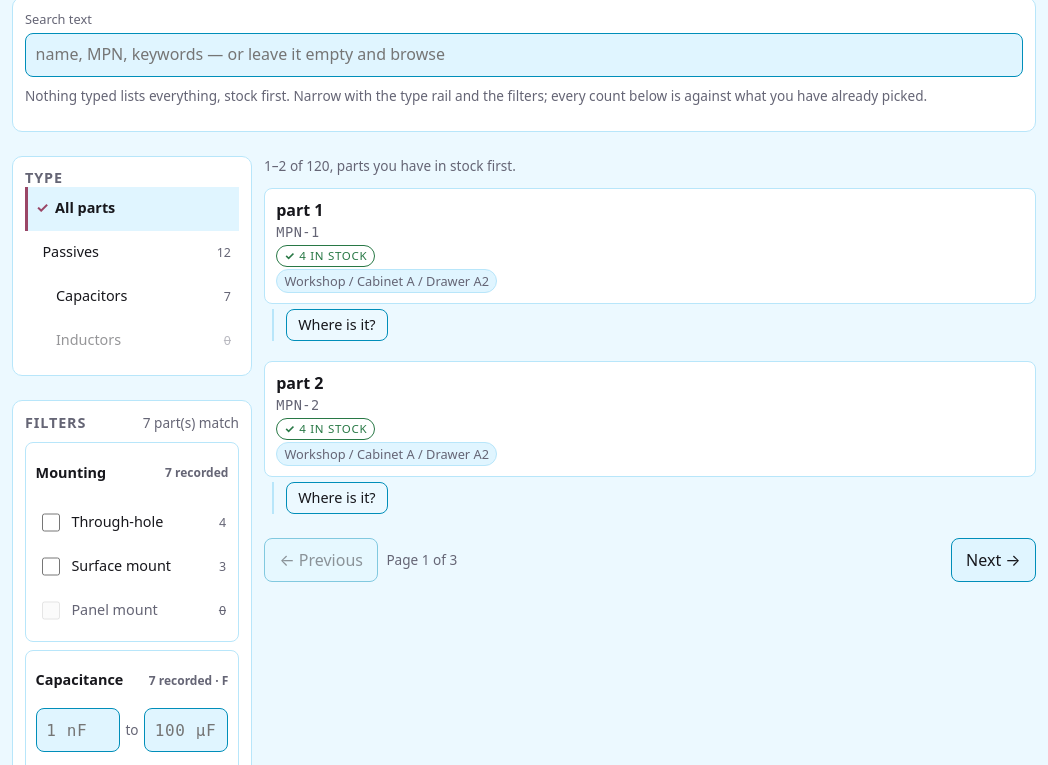
Test case: the URL › gains the filter, so the search is a link
Click the checkbox labelled "Through-hole 4": (51,523) left=42, top=513, right=60, bottom=532
(page scrolled)
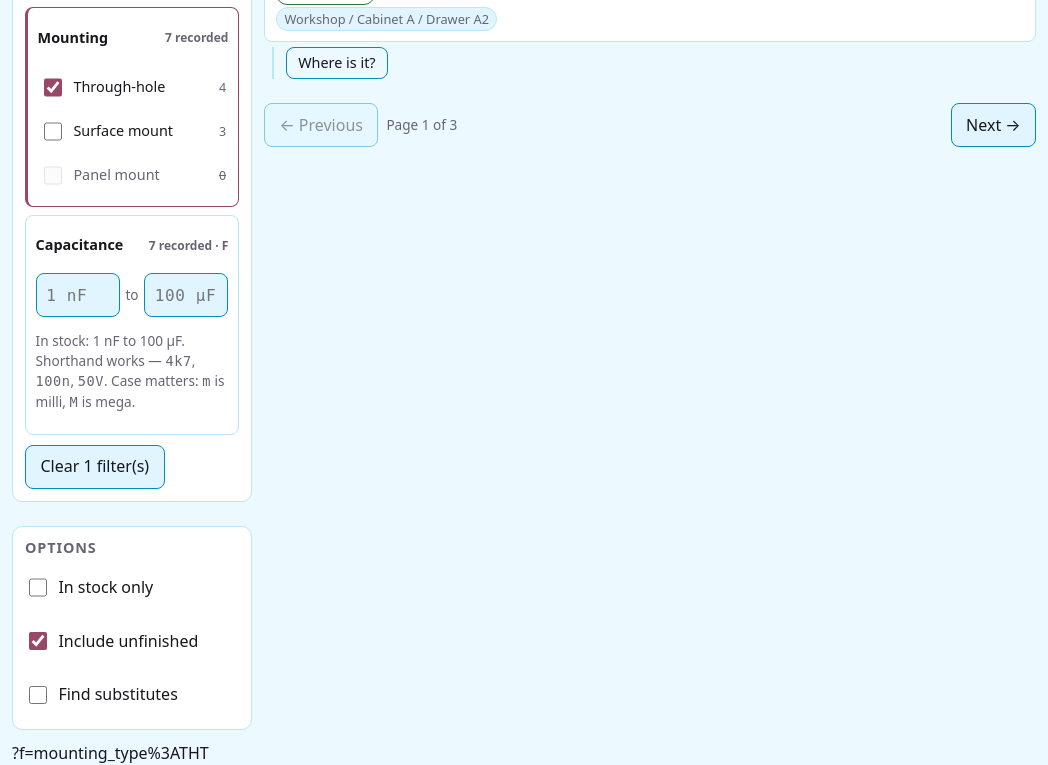
Expected: the text with test id "url" shows "f=mounting_type%3ATHT", left=12, top=742, right=209, bottom=764
